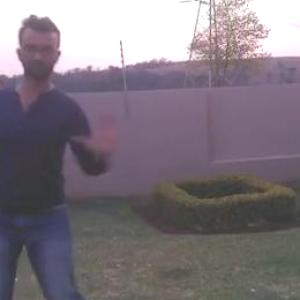follow_hand: (72, 110, 120, 162)
